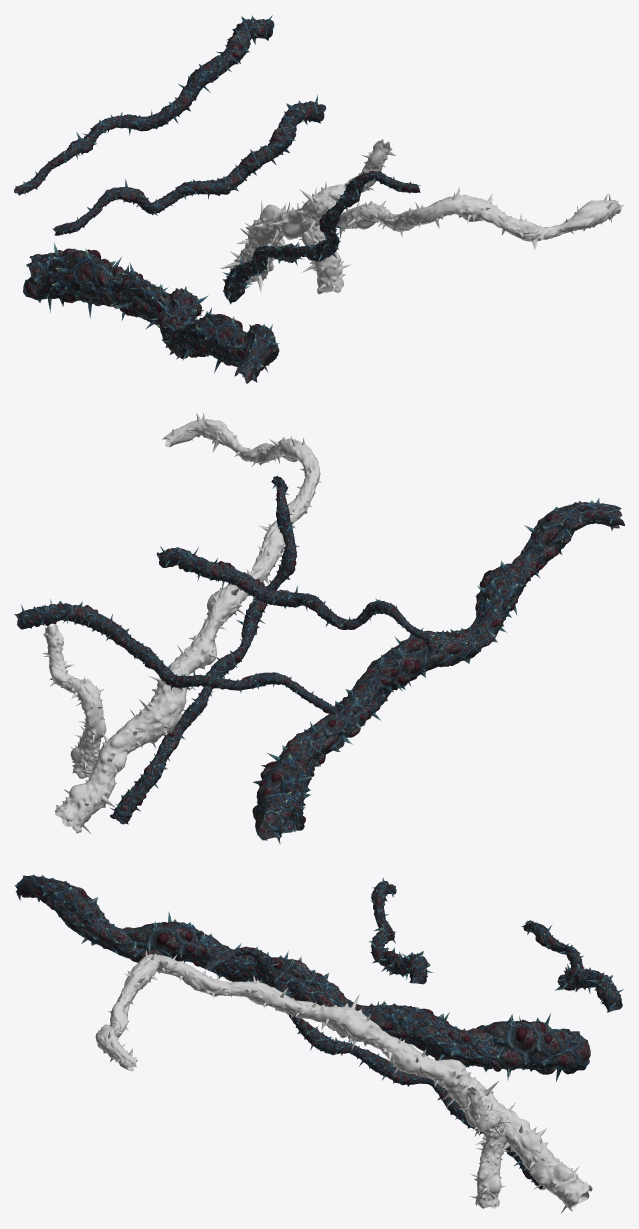
Rendered from 02_16_makaizyu_02.fbx.
3 views of the same model, one above another, from view 1: azimuth 30°, elevation 25°; view 2: azimuth 150°, elevation 25°; view 3: azimuth 270°, elevation 25° (orthographic). The views are drawn at different scales.
Visible parts, largest first — view 1: LODGroup_1_MainMesh_1_SubMesh_1, LODGroup_1_MainMesh_1_SubMesh_2, LODGroup_1_MainMesh_1_SubMesh_4, LODGroup_1_MainMesh_1_SubMesh_3; view 2: LODGroup_1_MainMesh_1_SubMesh_2, LODGroup_1_MainMesh_1_SubMesh_1, LODGroup_1_MainMesh_1_SubMesh_3, LODGroup_1_MainMesh_1_SubMesh_4; view 3: LODGroup_1_MainMesh_1_SubMesh_2, LODGroup_1_MainMesh_1_SubMesh_3, LODGroup_1_MainMesh_1_SubMesh_4, LODGroup_1_MainMesh_1_SubMesh_1.
Part boxes in pixels (left/top/right/bottom): LODGroup_1_MainMesh_1_SubMesh_1: left=14, top=15, right=420, bottom=304; LODGroup_1_MainMesh_1_SubMesh_2: left=220, top=139, right=624, bottom=294; LODGroup_1_MainMesh_1_SubMesh_4: left=23, top=248, right=278, bottom=376; LODGroup_1_MainMesh_1_SubMesh_3: left=29, top=242, right=280, bottom=383; LODGroup_1_MainMesh_1_SubMesh_2: left=42, top=413, right=321, bottom=834; LODGroup_1_MainMesh_1_SubMesh_1: left=14, top=475, right=438, bottom=824; LODGroup_1_MainMesh_1_SubMesh_3: left=252, top=497, right=619, bottom=844; LODGroup_1_MainMesh_1_SubMesh_4: left=274, top=500, right=624, bottom=838; LODGroup_1_MainMesh_1_SubMesh_2: left=95, top=950, right=592, bottom=1213; LODGroup_1_MainMesh_1_SubMesh_3: left=15, top=875, right=590, bottom=1081; LODGroup_1_MainMesh_1_SubMesh_4: left=14, top=874, right=570, bottom=1073; LODGroup_1_MainMesh_1_SubMesh_1: left=205, top=877, right=623, bottom=1189.
Size of the model in its own units: 2800 by 1623 by 3527.
